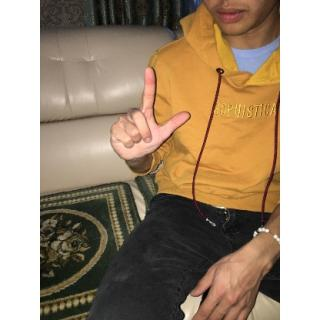LAAM: (106, 64, 192, 165)
